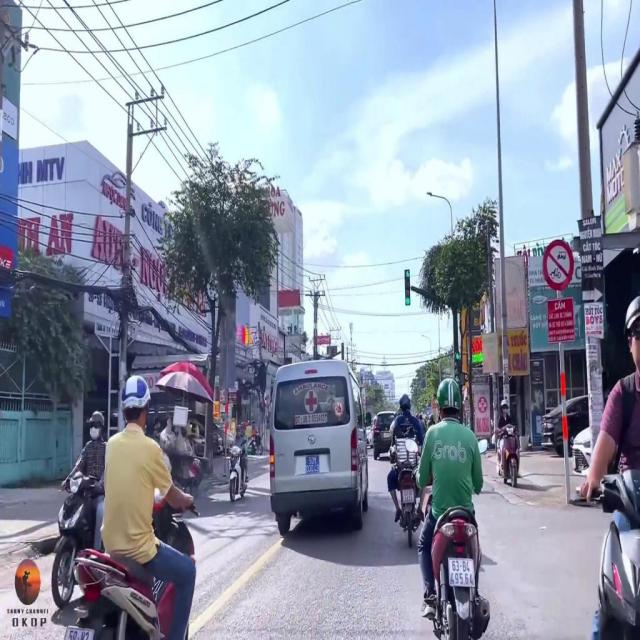cam_cac_loai_xe_3_banh: (542, 239, 574, 291)
